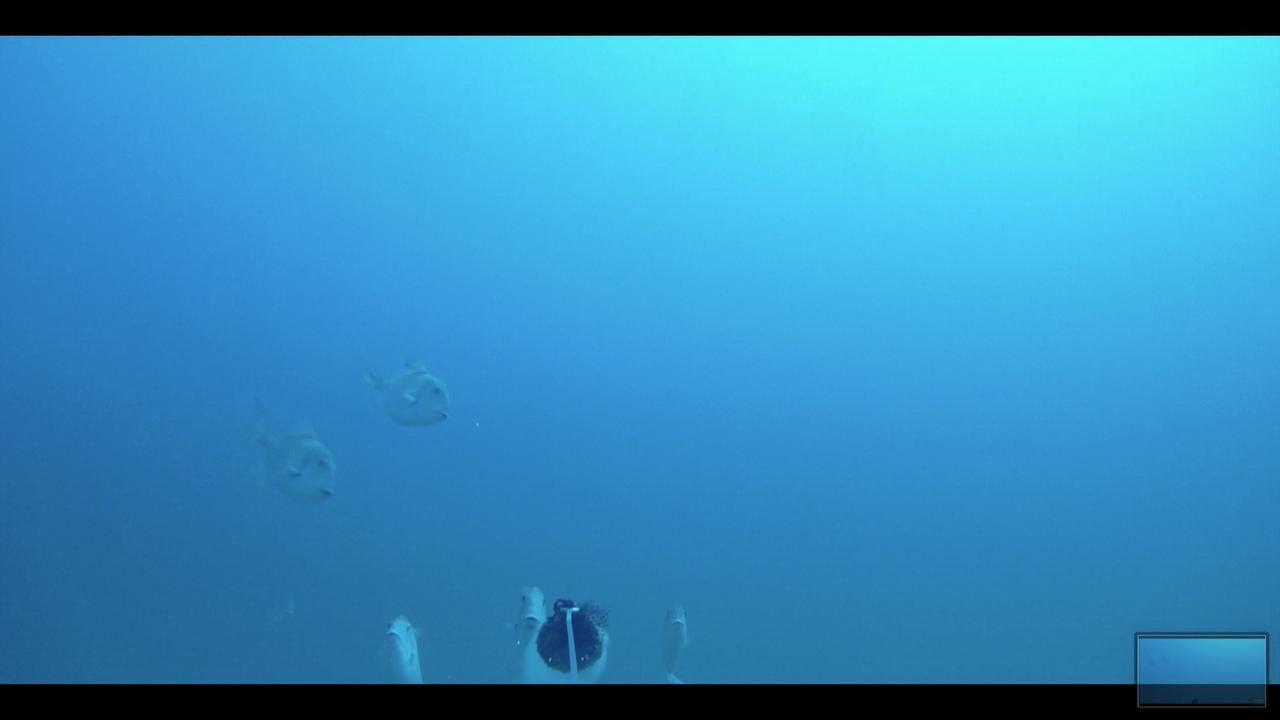balistes: (238, 388, 337, 508), (361, 354, 453, 428), (503, 574, 546, 656), (382, 611, 432, 681), (654, 598, 690, 682)
